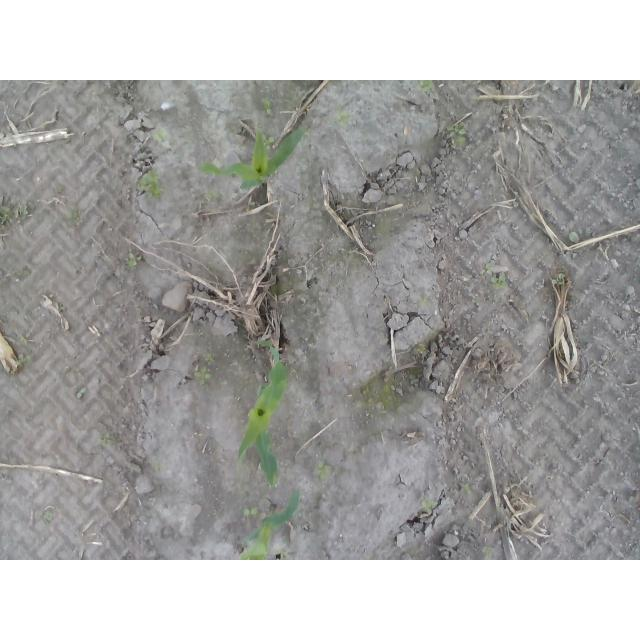Maize: (199, 109, 310, 191), (235, 340, 289, 490), (237, 489, 302, 560)
Weeds: (0, 198, 34, 231), (479, 263, 509, 289), (137, 172, 163, 199), (255, 121, 275, 153), (193, 367, 213, 388), (446, 125, 466, 146), (313, 460, 332, 480), (333, 111, 352, 130), (15, 354, 33, 368), (469, 298, 496, 307), (127, 254, 142, 269), (153, 127, 169, 141), (420, 499, 436, 513), (262, 99, 275, 115), (419, 82, 435, 95), (69, 210, 82, 226), (568, 231, 582, 245), (482, 545, 496, 559), (97, 433, 111, 447), (273, 550, 292, 560), (75, 388, 89, 401), (242, 507, 258, 517), (21, 268, 33, 281), (203, 190, 220, 199), (39, 511, 54, 521), (551, 274, 563, 286), (419, 295, 430, 306), (17, 336, 30, 345), (412, 346, 425, 355), (58, 186, 66, 200), (154, 463, 164, 474), (465, 482, 472, 495), (204, 354, 213, 364), (246, 202, 255, 212), (430, 168, 438, 176), (61, 307, 68, 314), (362, 556, 372, 560)
